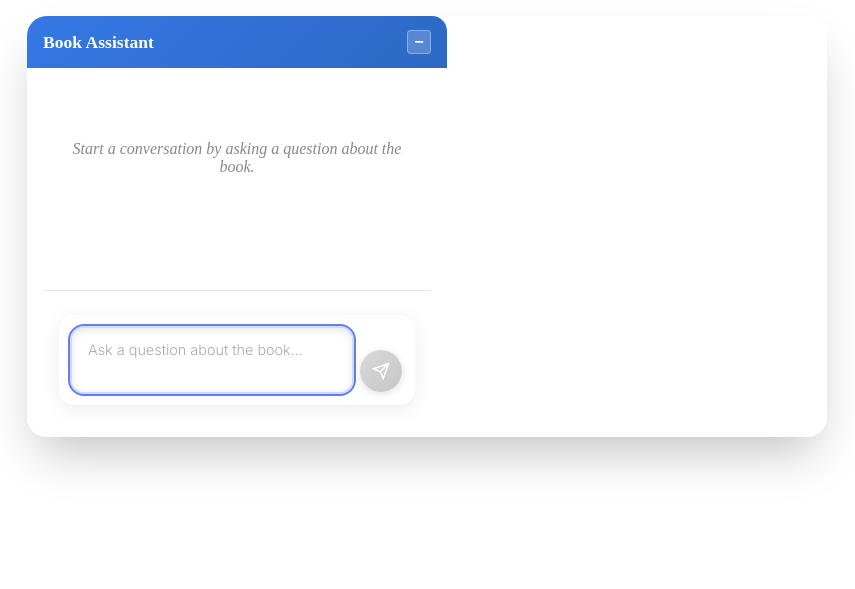
End-to-End Tests: All User Stories › Cross-Cutting Features › error handling works when API fails
# Submit a query
Type "Test query" into the field with placeholder "Ask a question about the book...".
click(212, 360); type("Test query")  # box [72,328,352,392]
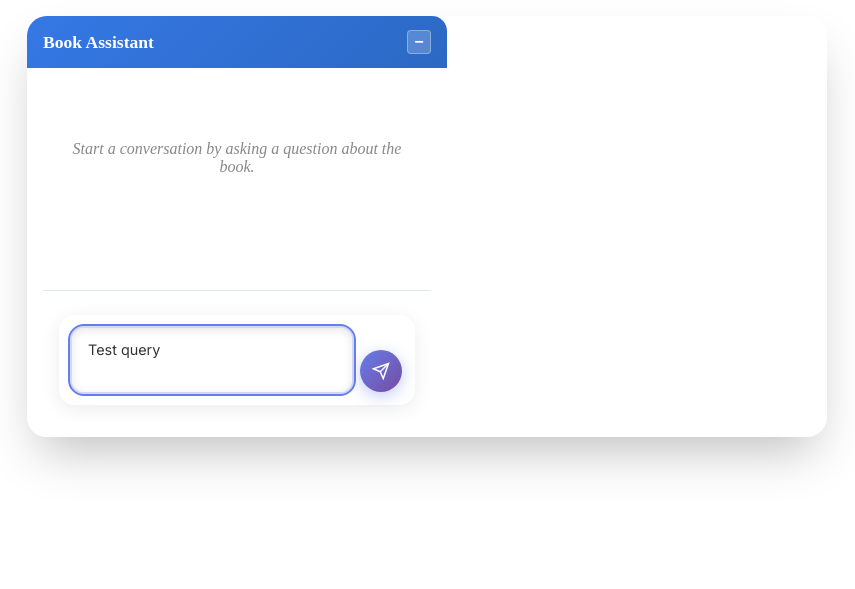
Click the button named "Send message".
click(381, 371)  # box [360,350,402,392]
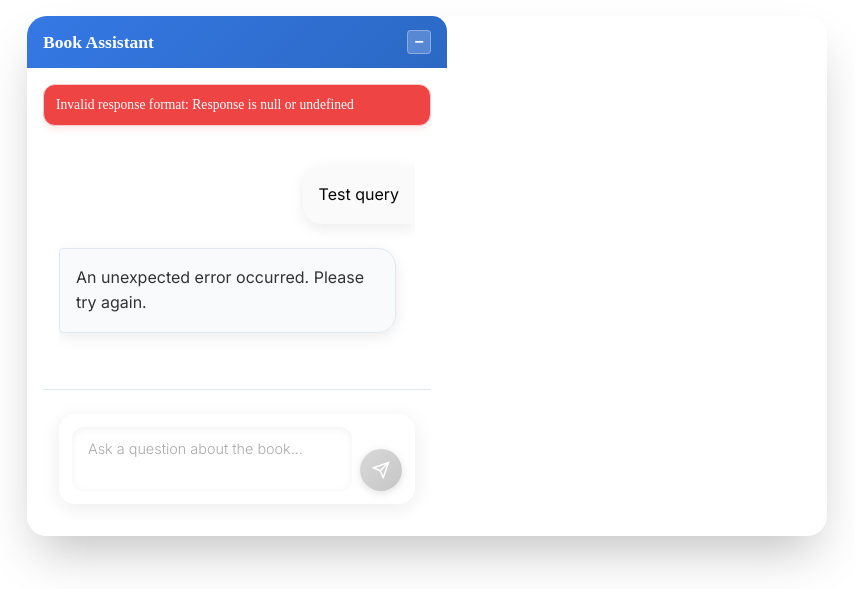
Now the text "An unexpected error occurred. Please try again." is shown, box [76,265,379,316]
